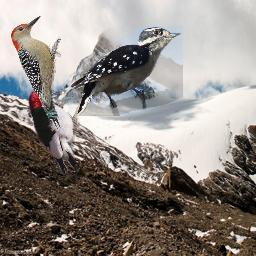Woodpecker: (68, 26, 183, 116), (11, 14, 61, 130), (28, 89, 81, 174)
